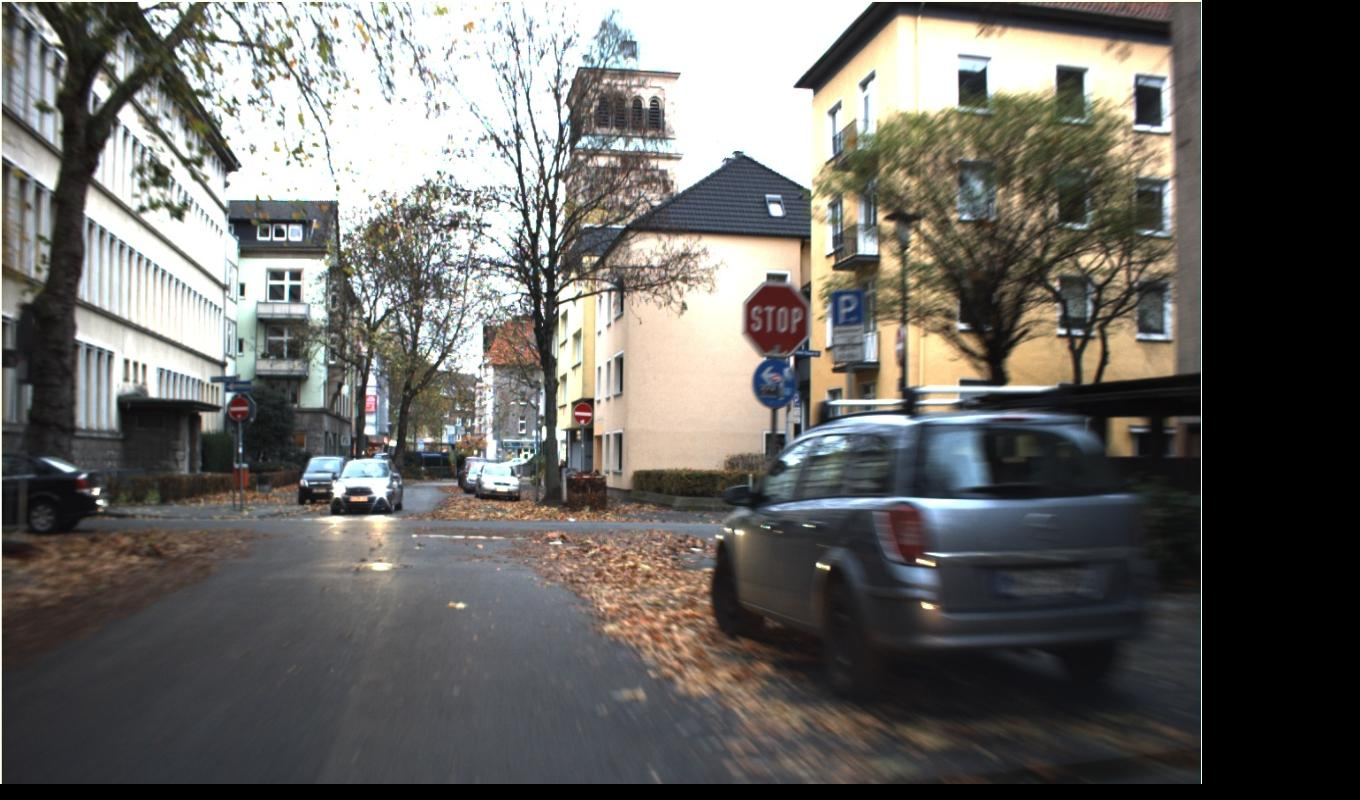stop: (227, 281, 809, 425)
